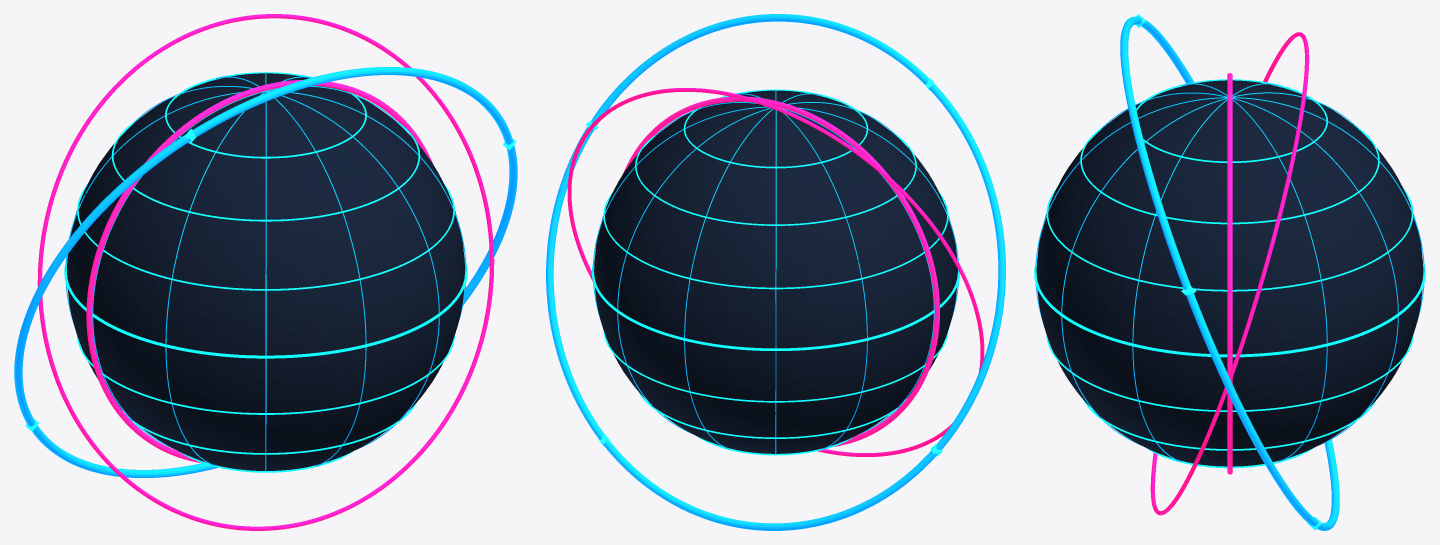
Rendered from SF_Planet_Aether.fbx.
3 renders of one model, left to right at view 1: azimuth 30°, elevation 25°; view 2: azimuth 150°, elevation 25°; view 3: azimuth 270°, elevation 25°, orthographic. The views are drawn at different scales.
Visible parts, largest first — view 1: Aether_Planet_Core, Outer_Cyan_Orbital_Ring, Inner_Magenta_Orbital_Ring, Magenta_Equatorial_Halo, Cyan_Latitude_Band_0, Cyan_Latitude_Band_20, Cyan_Latitude_Band_40, Cyan_Latitude_Band_M20, Cyan_Latitude_Band_60, Meridian_Circuit_04, Cyan_Latitude_Band_M40, Meridian_Circuit_02 (+3 smaller); view 2: Aether_Planet_Core, Outer_Cyan_Orbital_Ring, Inner_Magenta_Orbital_Ring, Magenta_Equatorial_Halo, Cyan_Latitude_Band_0, Cyan_Latitude_Band_20, Cyan_Latitude_Band_M20, Cyan_Latitude_Band_40, Cyan_Latitude_Band_60, Meridian_Circuit_08, Meridian_Circuit_10, Cyan_Latitude_Band_M40 (+2 smaller); view 3: Aether_Planet_Core, Outer_Cyan_Orbital_Ring, Inner_Magenta_Orbital_Ring, Magenta_Equatorial_Halo, Cyan_Latitude_Band_0, Cyan_Latitude_Band_20, Cyan_Latitude_Band_40, Cyan_Latitude_Band_M20, Cyan_Latitude_Band_60, Meridian_Circuit_10, Meridian_Circuit_02, Cyan_Latitude_Band_M40 (+4 smaller).
Part boxes in pixels (x1,y1,x2,y2): Aether_Planet_Core: (67,73,464,470); Outer_Cyan_Orbital_Ring: (14,67,517,477); Inner_Magenta_Orbital_Ring: (37,14,494,530); Magenta_Equatorial_Halo: (86,80,432,463); Cyan_Latitude_Band_0: (64,257,467,358); Cyan_Latitude_Band_20: (77,184,454,290); Cyan_Latitude_Band_40: (111,117,420,221); Cyan_Latitude_Band_M20: (77,335,454,414); Cyan_Latitude_Band_60: (165,72,366,158); Meridian_Circuit_04: (265,91,266,472); Cyan_Latitude_Band_M40: (125,403,416,454); Meridian_Circuit_02: (267,91,439,448); Aether_Planet_Core: (594,90,957,453); Outer_Cyan_Orbital_Ring: (546,14,1005,530); Inner_Magenta_Orbital_Ring: (567,88,984,456); Magenta_Equatorial_Halo: (623,96,939,446); Cyan_Latitude_Band_0: (591,259,960,350); Cyan_Latitude_Band_20: (603,192,948,289); Cyan_Latitude_Band_M20: (603,330,948,402); Cyan_Latitude_Band_40: (635,131,916,225); Cyan_Latitude_Band_60: (683,89,868,168); Meridian_Circuit_08: (775,110,776,454); Meridian_Circuit_10: (617,108,770,432); Cyan_Latitude_Band_M40: (638,391,903,438); Aether_Planet_Core: (1036,80,1423,466); Outer_Cyan_Orbital_Ring: (1120,16,1339,530); Inner_Magenta_Orbital_Ring: (1150,32,1309,515); Magenta_Equatorial_Halo: (1227,73,1232,474); Cyan_Latitude_Band_0: (1034,259,1425,357); Cyan_Latitude_Band_20: (1046,188,1413,291); Cyan_Latitude_Band_40: (1080,124,1379,224); Cyan_Latitude_Band_M20: (1046,335,1413,411); Cyan_Latitude_Band_60: (1136,79,1327,162); Meridian_Circuit_10: (1232,98,1398,444); Meridian_Circuit_02: (1061,98,1227,444); Cyan_Latitude_Band_M40: (1084,401,1375,450).
Size of the model in its own units: 14.21 by 13.1 by 10.13.
